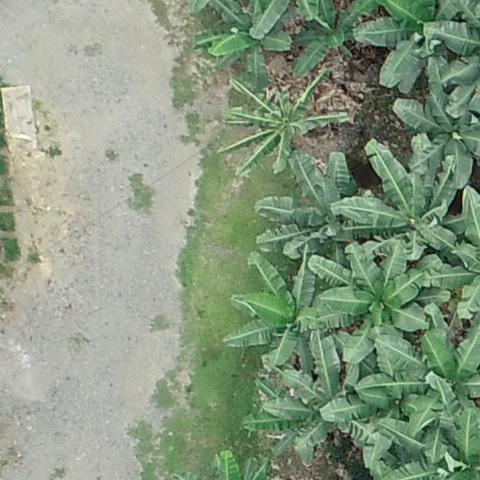Banana-plant: (272, 338, 397, 461), (225, 251, 340, 384), (347, 141, 464, 271), (315, 244, 432, 357), (230, 70, 350, 175), (250, 152, 361, 261), (389, 330, 480, 443), (386, 80, 480, 166), (205, 0, 298, 84), (376, 15, 480, 90)
